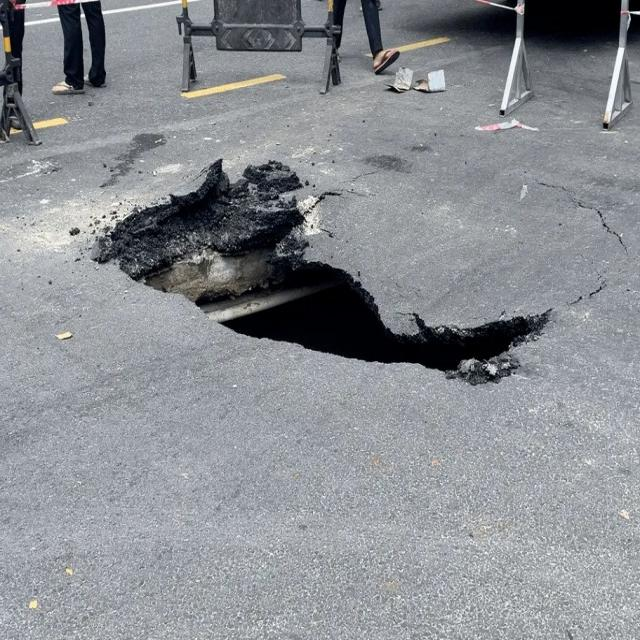Pothole: (88, 162, 552, 397)
